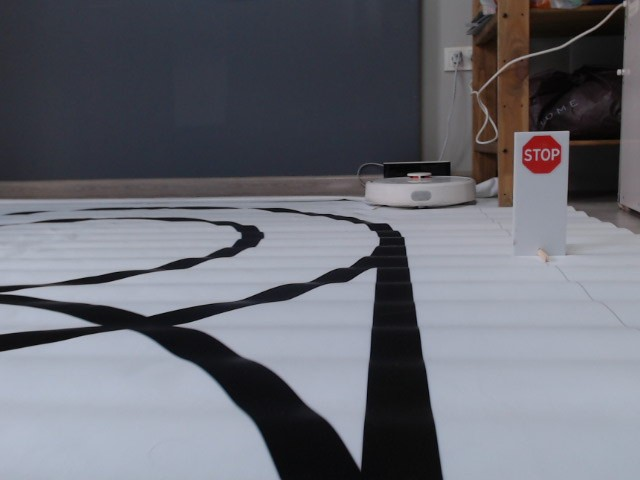Stop: (521, 135, 563, 174)
